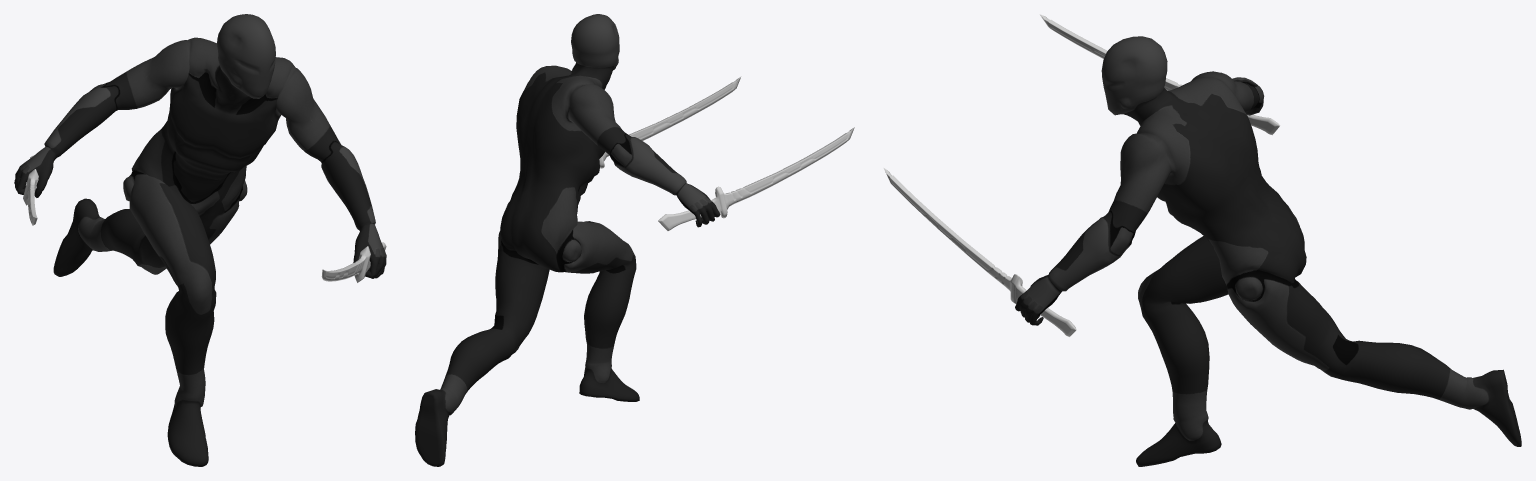
3 views of the same model, side by side, from view 1: azimuth 30°, elevation 25°; view 2: azimuth 150°, elevation 25°; view 3: azimuth 270°, elevation 25° (orthographic). The views are drawn at different scales.
Visible parts, largest first — view 1: Cyborg_Ninja_Killer, Sword_l, Sword_l001; view 2: Cyborg_Ninja_Killer, Sword_l001, Sword_l; view 3: Cyborg_Ninja_Killer, Sword_l, Sword_l001.
Part boxes in pixels (x1=…): Cyborg_Ninja_Killer: x1=14, y1=14, x2=386, y2=466; Sword_l: x1=321, y1=242, x2=386, y2=282; Sword_l001: x1=23, y1=155, x2=38, y2=225; Cyborg_Ninja_Killer: x1=415, y1=14, x2=720, y2=466; Sword_l001: x1=658, y1=127, x2=854, y2=230; Sword_l: x1=599, y1=76, x2=741, y2=168; Cyborg_Ninja_Killer: x1=1015, y1=36, x2=1521, y2=466; Sword_l: x1=883, y1=168, x2=1076, y2=336; Sword_l001: x1=1039, y1=14, x2=1280, y2=135.
Size of the model in its own units: 137 by 156 by 201.
